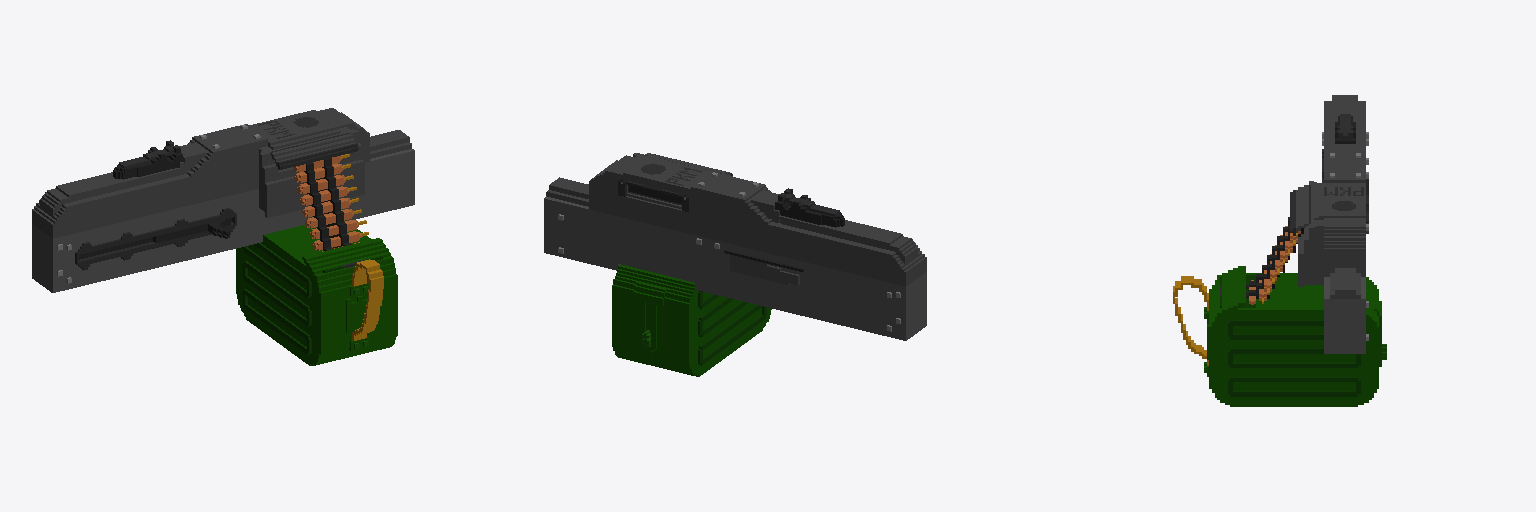
The picture shows the model from 3 angles: view 1: azimuth 30°, elevation 25°; view 2: azimuth 150°, elevation 25°; view 3: azimuth 270°, elevation 25°; orthographic projection.
Parts seen in each view (by area): view 1: object 1; view 2: object 1; view 3: object 1.
Boxes of the visible parts, box(x1,y1,x2,y2) form: object 1: box(32, 108, 414, 365); object 1: box(544, 153, 926, 376); object 1: box(1173, 95, 1386, 406).
Size of the model in its own units: 16 by 8.4 by 8.2.
1 materials, 1 textured.